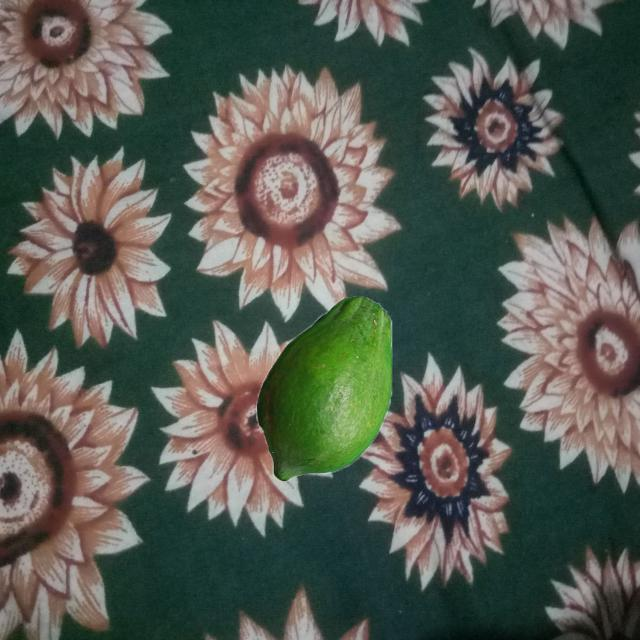Pepaya unrippen: (246, 286, 396, 492)
